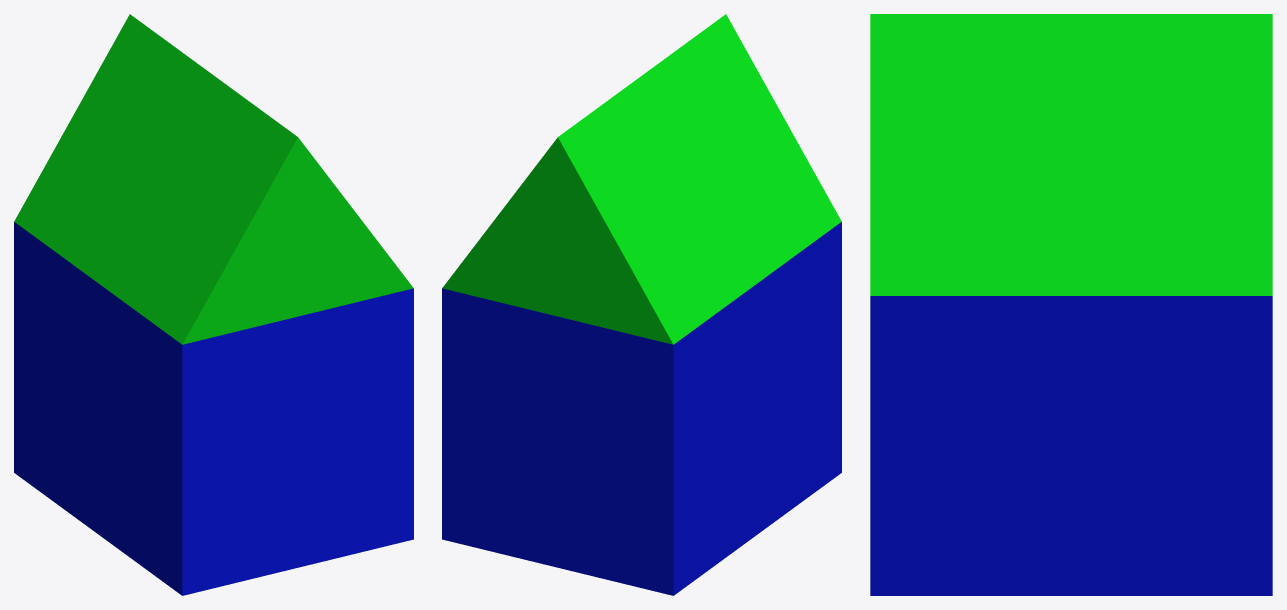
3 views of the same model, side by side, from view 1: azimuth 30°, elevation 25°; view 2: azimuth 150°, elevation 25°; view 3: azimuth 270°, elevation 25° (orthographic). The views are drawn at different scales.
Parts seen in each view (by area): view 1: bottom, top; view 2: bottom, top; view 3: bottom, top.
Boxes of the visible parts, bbox=[...] form: bottom: bbox=[14, 222, 413, 595]; top: bbox=[14, 14, 413, 344]; bottom: bbox=[442, 222, 841, 595]; top: bbox=[442, 14, 841, 344]; bottom: bbox=[870, 296, 1272, 595]; top: bbox=[870, 14, 1272, 295].
Size of the model in its own units: 137 by 244 by 173.
